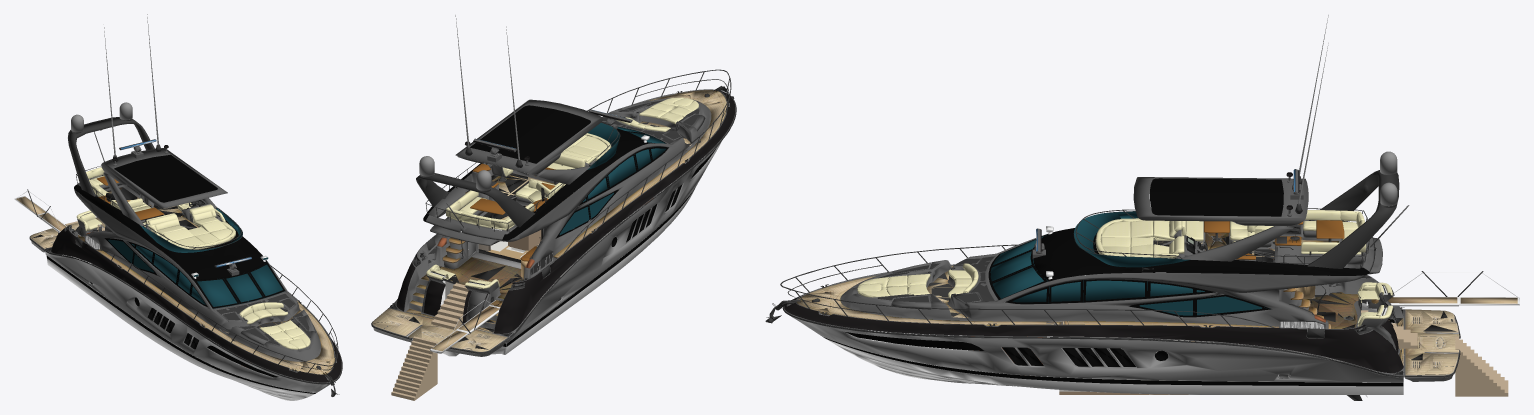
Rendered from lux-yacht.zfix-v10.lod0.glb.
3 renders of one model, left to right at view 1: azimuth 30°, elevation 25°; view 2: azimuth 150°, elevation 25°; view 3: azimuth 270°, elevation 25°, orthographic. The views are drawn at different scales.
Visible parts, largest first — view 1: Object_5, Object_6, Object_9, Object_87, Object_4, Object_10, Object_77, Object_45; view 2: Object_6, Object_5, Object_77, Object_4, Object_9, Object_10, Object_87, Object_45; view 3: Object_5, Object_6, Object_9, Object_4, Object_10, Object_77, Object_87, Object_45.
Boxes of the visible parts, left/top/right/bottom form: Object_5: left=30, top=119, right=342, bottom=393; Object_6: left=30, top=14, right=342, bottom=382; Object_9: left=31, top=102, right=339, bottom=392; Object_87: left=76, top=167, right=310, bottom=349; Object_4: left=27, top=117, right=342, bottom=396; Object_10: left=51, top=139, right=341, bottom=382; Object_77: left=16, top=187, right=334, bottom=374; Object_45: left=14, top=179, right=314, bottom=400; Object_6: left=372, top=15, right=735, bottom=352; Object_5: left=371, top=95, right=736, bottom=400; Object_77: left=372, top=90, right=727, bottom=351; Object_4: left=371, top=69, right=736, bottom=353; Object_9: left=373, top=141, right=721, bottom=356; Object_10: left=396, top=90, right=735, bottom=333; Object_87: left=426, top=97, right=698, bottom=288; Object_45: left=386, top=135, right=704, bottom=356; Object_5: left=783, top=169, right=1508, bottom=396; Object_6: left=783, top=15, right=1459, bottom=375; Object_9: left=784, top=151, right=1452, bottom=382; Object_4: left=765, top=170, right=1483, bottom=400; Object_10: left=784, top=169, right=1403, bottom=373; Object_77: left=797, top=232, right=1517, bottom=375; Object_87: left=857, top=210, right=1392, bottom=326; Object_45: left=826, top=226, right=1519, bottom=394.
Size of the model in its own units: 8.5 by 21.22 by 40.01.
9 materials, 4 textured.
